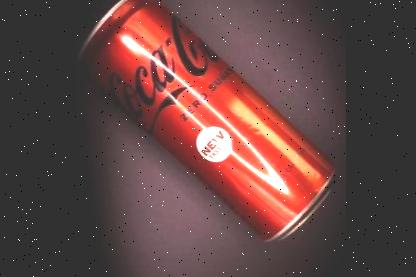Can: (77, 0, 338, 242)
